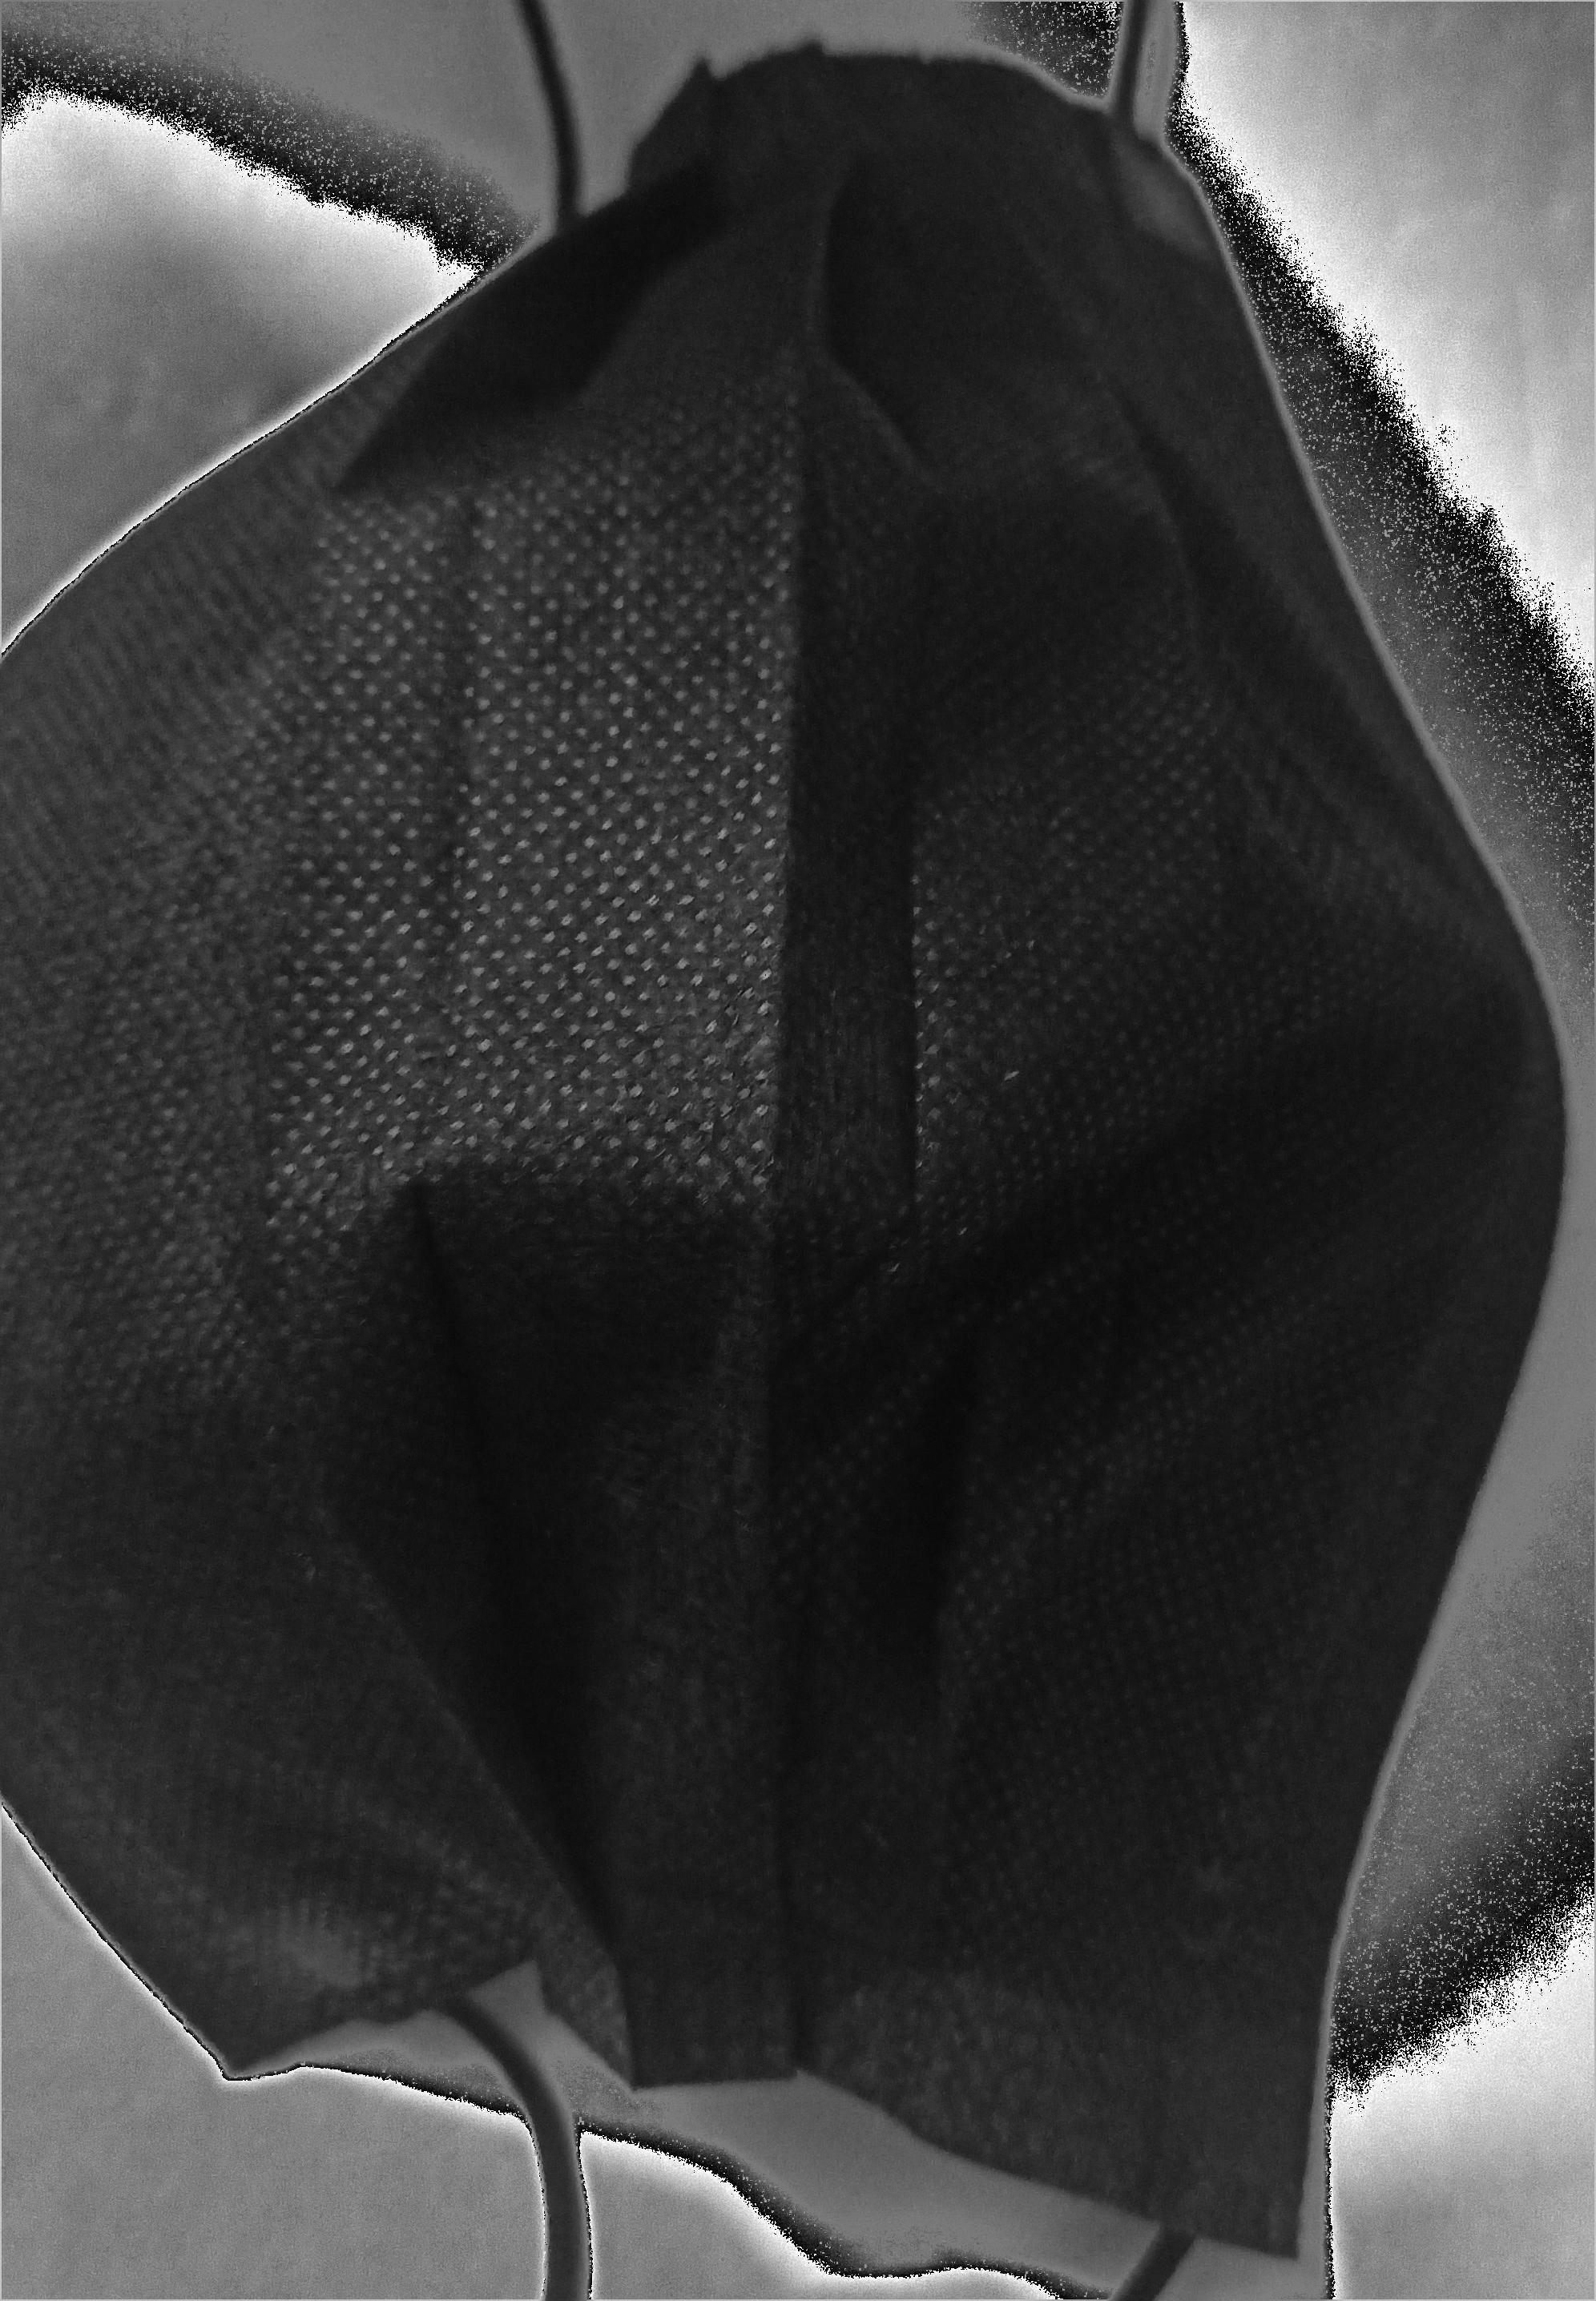Low GSM: (156, 521, 1220, 1705)
